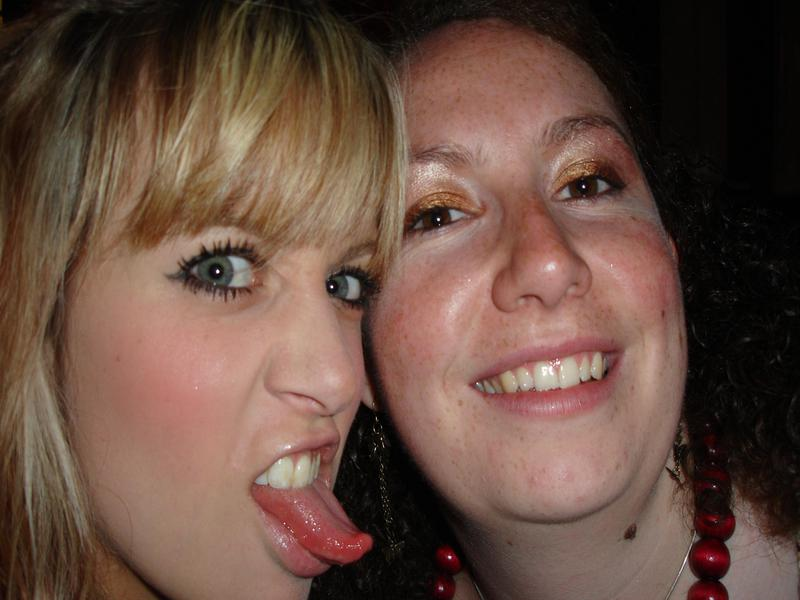person: (359, 23, 796, 600), (1, 1, 400, 598)
